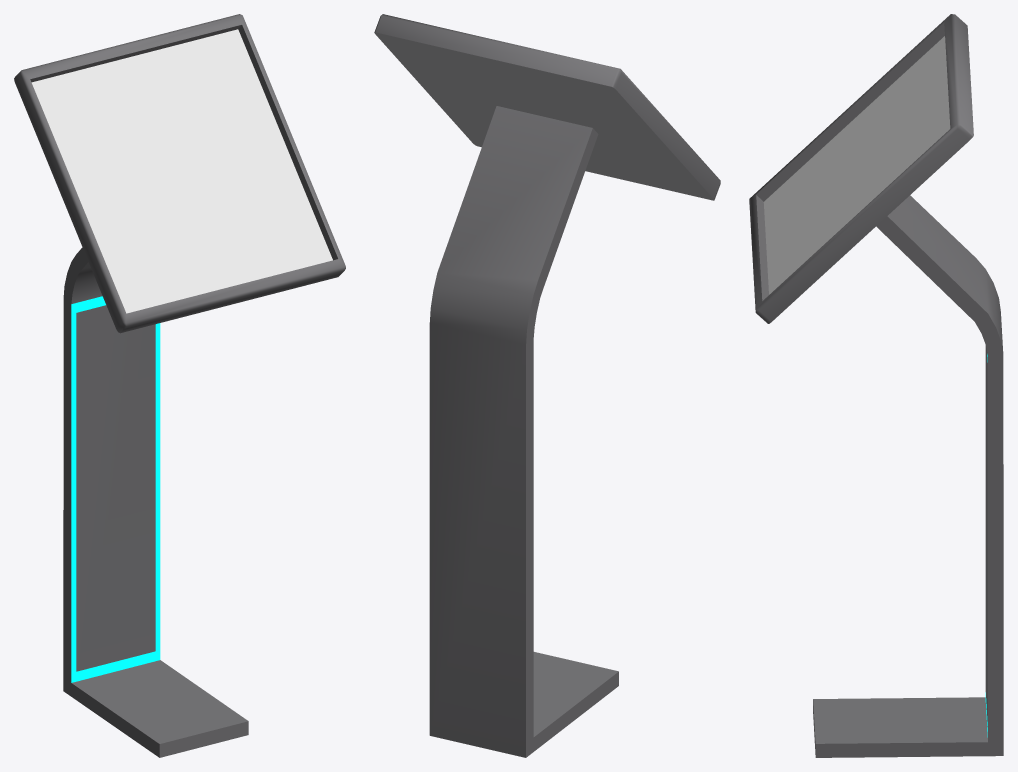
Rendered from Terminal.glb.
3 views of the same model, side by side, from view 1: azimuth 30°, elevation 25°; view 2: azimuth 150°, elevation 25°; view 3: azimuth 270°, elevation 25° (orthographic). The views are drawn at different scales.
Visible parts, largest first — view 1: Screen, Screen.002; view 2: Screen; view 3: Screen, Screen.002.
Boxes of the visible parts, x1,y1,x2,y2 form: Screen: (14,14,345,757); Screen.002: (31,29,332,313); Screen: (374,14,720,757); Screen: (749,14,1003,757); Screen.002: (763,36,950,294).
Size of the model in its own units: 0.5223 by 1.42 by 0.4912.
